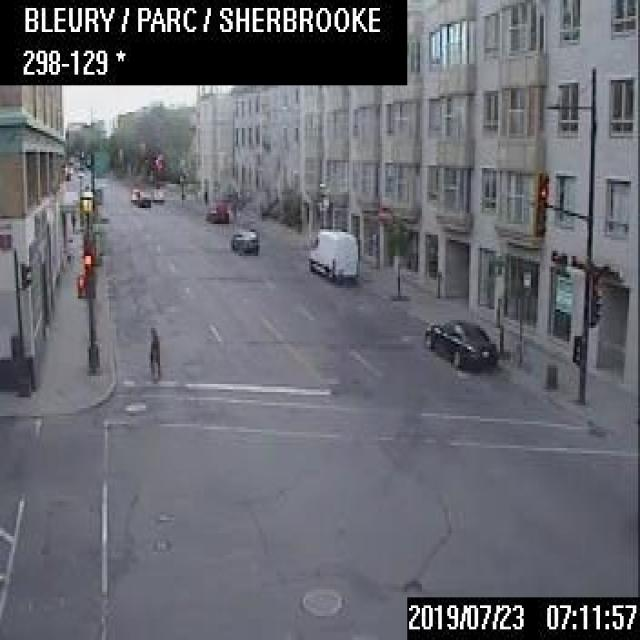pedestrian: (147, 323, 159, 376)
vehicle: (424, 317, 496, 367), (306, 227, 356, 280), (229, 224, 258, 253), (202, 200, 228, 222), (134, 189, 150, 205), (150, 188, 164, 202), (129, 187, 138, 200)
